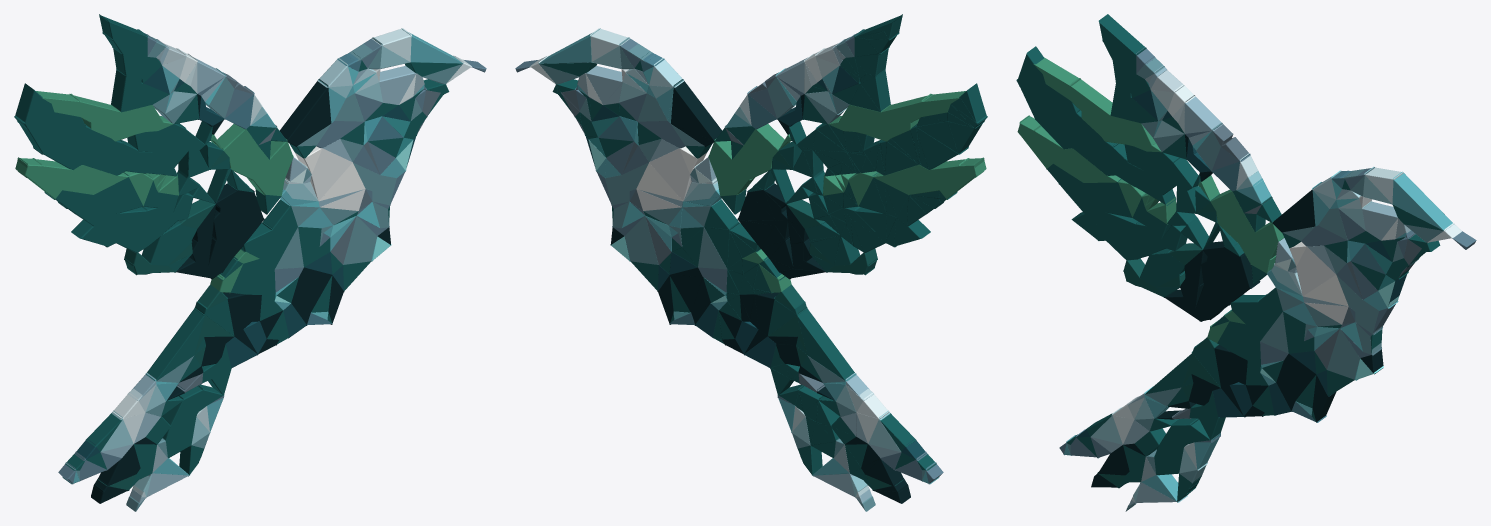
Rendered from vea-bird-lowpoly-3d.glb.
3 views of the same model, side by side, from view 1: azimuth 30°, elevation 25°; view 2: azimuth 150°, elevation 25°; view 3: azimuth 330°, elevation 25° (orthographic). The views are drawn at different scales.
Bounding box in the file's own units: 1.95 × 2 × 0.0742.
